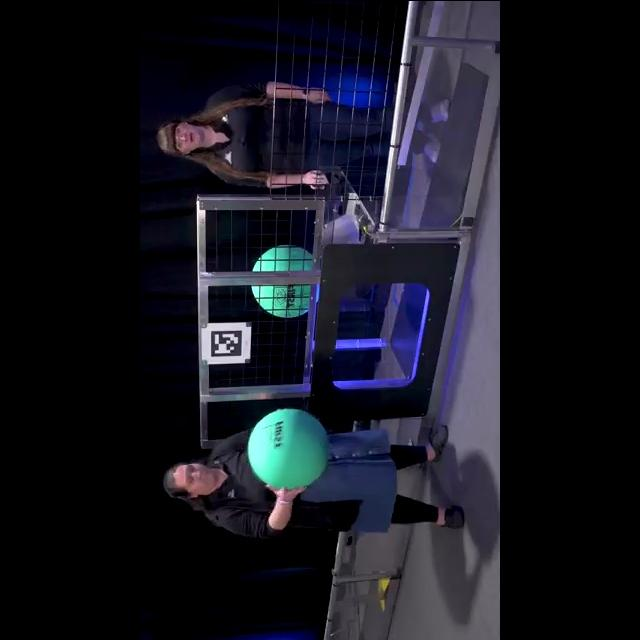ALGAE: (246, 406, 330, 489), (250, 244, 322, 318)
